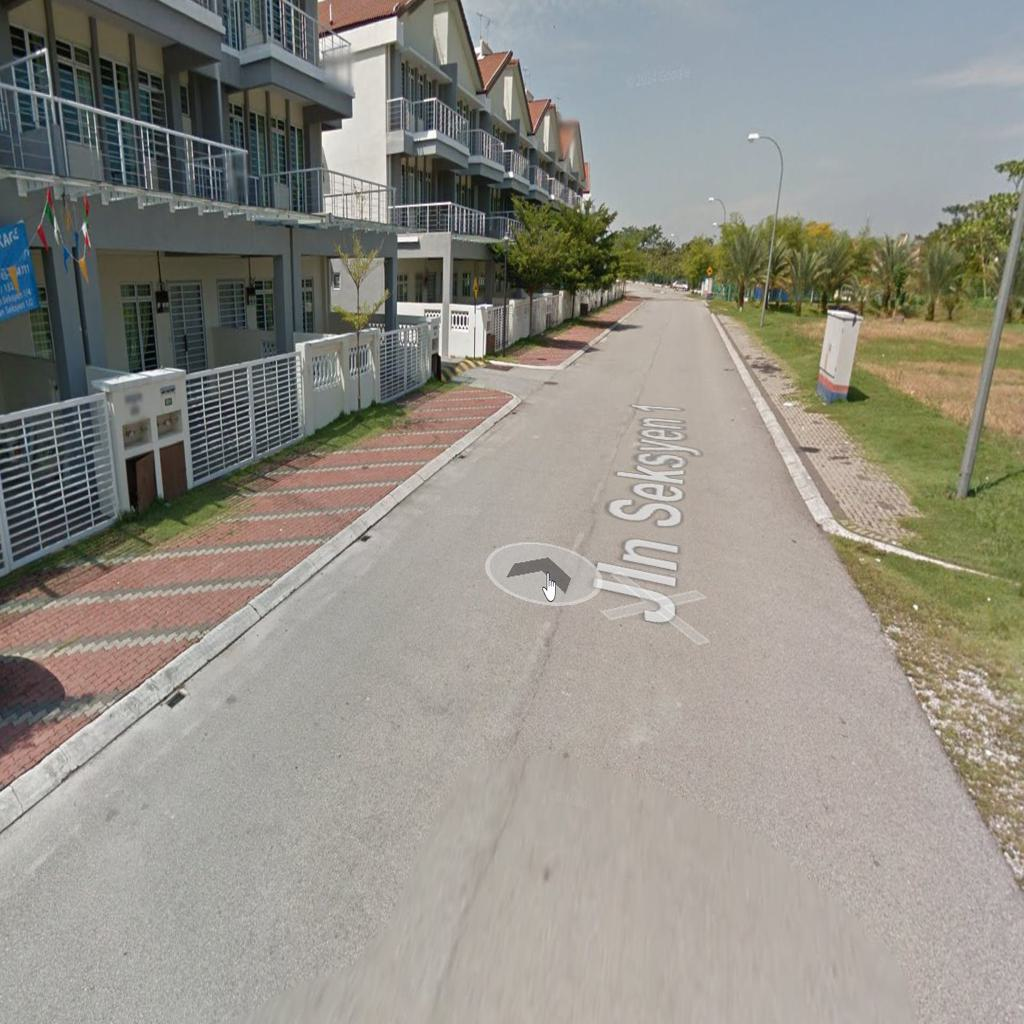Junction: (441, 324, 584, 418)
